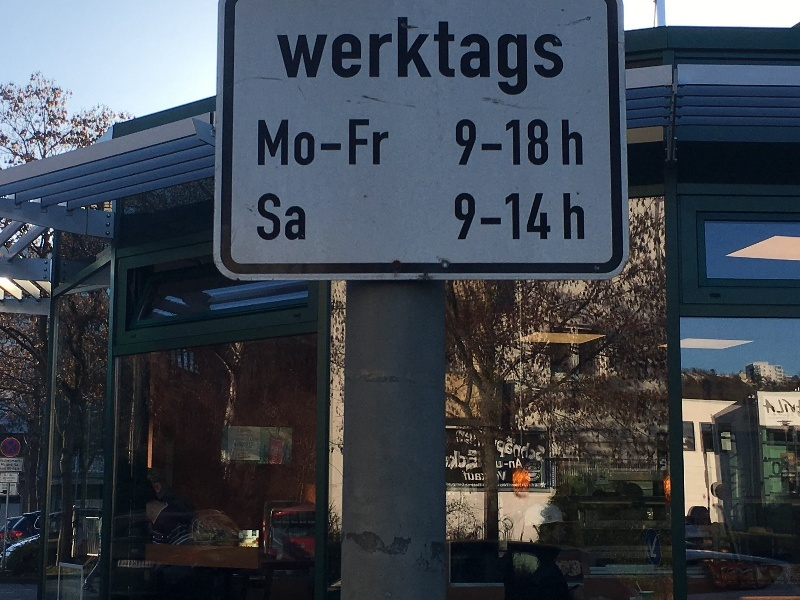text: (273, 16, 288, 97), (289, 16, 304, 97), (305, 16, 320, 97), (321, 16, 336, 97), (337, 16, 352, 97), (353, 16, 368, 97), (369, 16, 384, 97), (385, 16, 400, 97), (401, 16, 416, 97), (417, 16, 432, 97), (433, 16, 448, 97), (449, 16, 464, 97), (465, 16, 480, 97), (481, 16, 496, 97), (497, 16, 512, 97), (513, 16, 528, 97), (529, 16, 544, 97), (545, 16, 560, 97), (273, 193, 288, 241), (289, 193, 304, 241), (465, 193, 480, 240), (481, 193, 496, 240), (497, 193, 512, 240), (513, 193, 528, 240), (529, 193, 544, 240), (545, 193, 560, 240), (561, 193, 576, 240), (273, 120, 288, 166), (289, 120, 304, 166), (305, 120, 320, 166), (321, 120, 336, 166), (337, 120, 352, 166), (353, 120, 368, 166), (369, 120, 384, 166), (465, 121, 480, 166), (481, 121, 496, 166), (497, 121, 512, 166), (513, 121, 528, 166), (529, 121, 544, 166), (545, 121, 560, 166), (561, 121, 576, 166), (258, 193, 272, 241), (258, 120, 272, 166), (455, 193, 464, 240), (455, 121, 464, 166), (529, 439, 545, 463), (577, 193, 585, 240), (497, 439, 512, 463), (513, 439, 528, 463), (561, 16, 565, 97), (449, 450, 464, 471), (465, 450, 480, 471), (577, 121, 583, 166), (769, 399, 784, 417), (785, 399, 800, 417), (385, 120, 389, 166), (497, 458, 512, 470), (465, 471, 480, 482), (481, 471, 496, 482), (273, 446, 280, 466), (513, 458, 524, 470), (497, 471, 506, 482), (449, 482, 464, 488), (465, 482, 480, 488), (481, 482, 496, 488), (497, 482, 512, 488), (513, 482, 528, 488), (763, 399, 768, 417), (529, 482, 542, 488), (1, 458, 16, 463), (1, 467, 16, 471), (305, 193, 306, 241), (1, 463, 16, 466), (446, 450, 448, 471), (481, 450, 483, 471), (270, 446, 272, 466), (17, 458, 22, 463), (495, 439, 496, 463), (462, 471, 464, 482), (446, 482, 448, 488), (17, 467, 20, 471), (17, 463, 20, 466)
